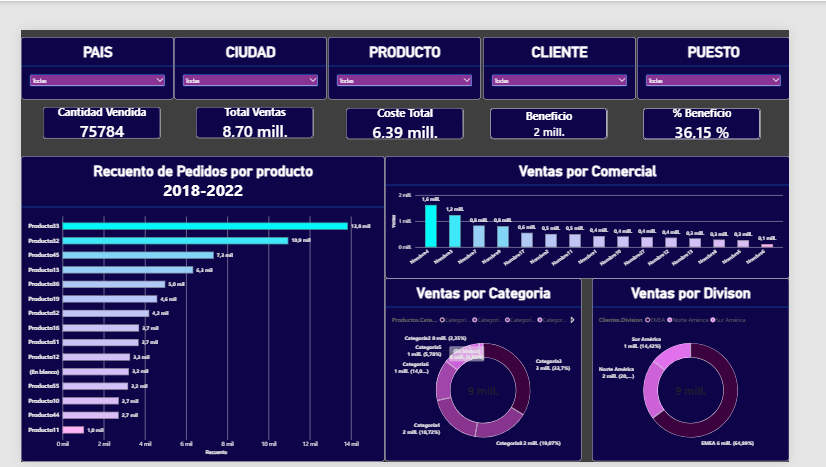

The page's visual inventory and layout, read from the dashboard file:
{"tool":"powerbi","page":{"name":"Dashboard","canvas":[1920,1080],"ordinal":0},"visuals":[{"type":"clusteredBarChart","title":"Recuento de Pedidos por  producto","fields":{"Category":["Productos.Productos.Nombre"],"Y":["Pedidos.Cantidad"]},"box":[0,315.2,909.1,763.6],"z":0},{"type":"cardVisual","fields":{"Data":["Medidas.Cantidad"]},"box":[55.1,191.8,293.9,79.6],"z":1000},{"type":"cardVisual","fields":{"Data":["Medidas.Ventas"]},"box":[436.7,191.8,293.9,77.6],"z":2000},{"type":"cardVisual","fields":{"Data":["Medidas.Coste"]},"box":[812.2,193.9,293.9,77.6],"z":3000},{"type":"cardVisual","fields":{"Data":["Medidas.Beneficio"]},"box":[1171.4,195.9,293.9,77.6],"z":4000},{"type":"cardVisual","fields":{"Data":["Medidas.% Beneficio"]},"box":[1555.1,193.9,293.9,79.6],"z":5000},{"type":"donutChart","title":"Ventas por Categoria","fields":{"Category":["Productos.Productos.Categoria_ID"],"Y":["Medidas.Ventas"]},"box":[909.1,621.2,490.7,458.1],"z":6000},{"type":"donutChart","title":"Ventas por Divison","fields":{"Category":["Clientes.Clientes.Division"],"Y":["Medidas.Ventas"]},"box":[1427.9,620.9,493,458.1],"z":7000},{"type":"columnChart","title":"Ventas por Comercial","fields":{"Category":["Vendedores.Vendedores.Nombre"],"Y":["Medidas.Ventas"]},"box":[909.1,315.2,1012.1,306.1],"z":8000},{"type":"shape","title":"Ver filtros","box":[1637,50,107.5,107.5],"z":10000},{"type":"textbox","box":[0,0,1555,192.5],"z":12000}]}

Visuals, with their boxes in screenshot pixels (x1, y1, x2, y2), scaled from the page's 1920x1080 canvas onto the 826x467 screenshot:
"Recuento de Pedidos por  producto" clusteredBarChart: crop(0, 136, 391, 466)
cardVisual - Medidas.Cantidad: crop(24, 83, 150, 117)
cardVisual - Medidas.Ventas: crop(188, 83, 314, 116)
cardVisual - Medidas.Coste: crop(349, 84, 476, 117)
cardVisual - Medidas.Beneficio: crop(504, 85, 630, 118)
cardVisual - Medidas.% Beneficio: crop(669, 84, 795, 118)
"Ventas por Categoria" donutChart: crop(391, 269, 602, 466)
"Ventas por Divison" donutChart: crop(614, 268, 825, 466)
"Ventas por Comercial" columnChart: crop(391, 136, 825, 269)
"Ver filtros" shape: crop(704, 22, 750, 68)
textbox: crop(0, 0, 669, 83)
